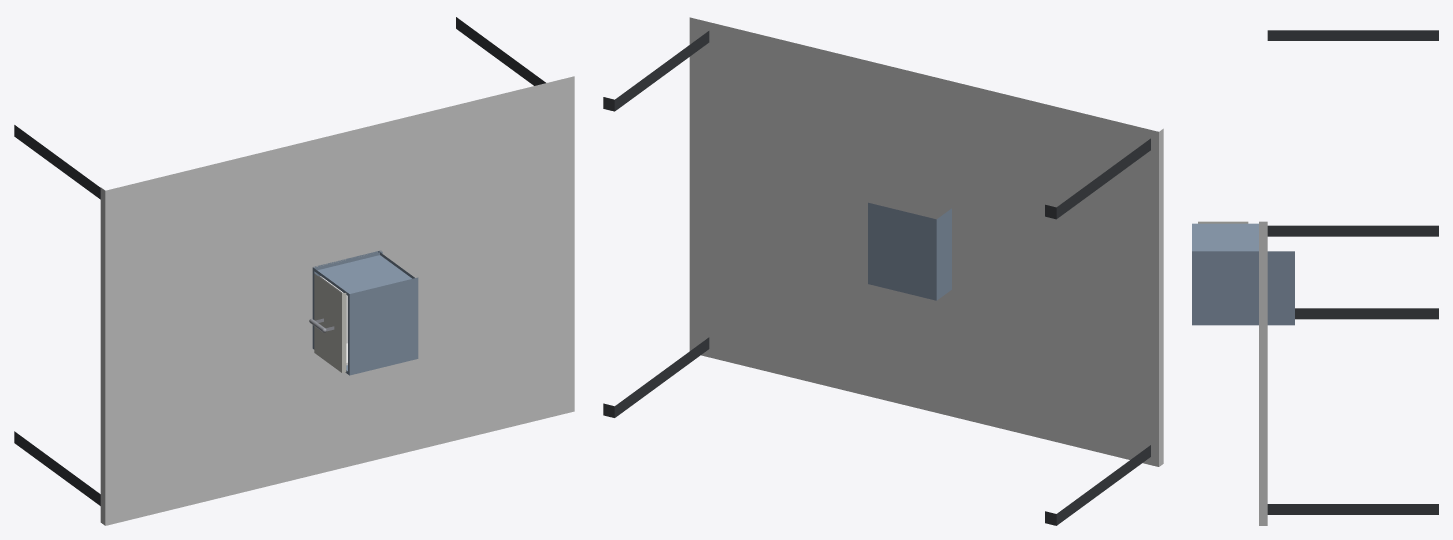
The picture shows the model from 3 angles, left to right: view 1: azimuth 30°, elevation 25°; view 2: azimuth 150°, elevation 25°; view 3: azimuth 270°, elevation 25°; orthographic projection. The views are drawn at different scales.
Visible parts, largest first — view 1: s0, s1, s2; view 2: s0, s1; view 3: s0, s1.
Boxes of the visible parts, left/top/right/bottom form: s0: left=14, top=17, right=574, bottom=525; s1: left=312, top=250, right=418, bottom=375; s2: left=309, top=273, right=347, bottom=372; s0: left=603, top=17, right=1163, bottom=525; s1: left=868, top=202, right=951, bottom=300; s0: left=1259, top=30, right=1438, bottom=525; s1: left=1192, top=223, right=1294, bottom=325.
Size of the model in its own units: 2.05 by 1.4 by 1.03.
